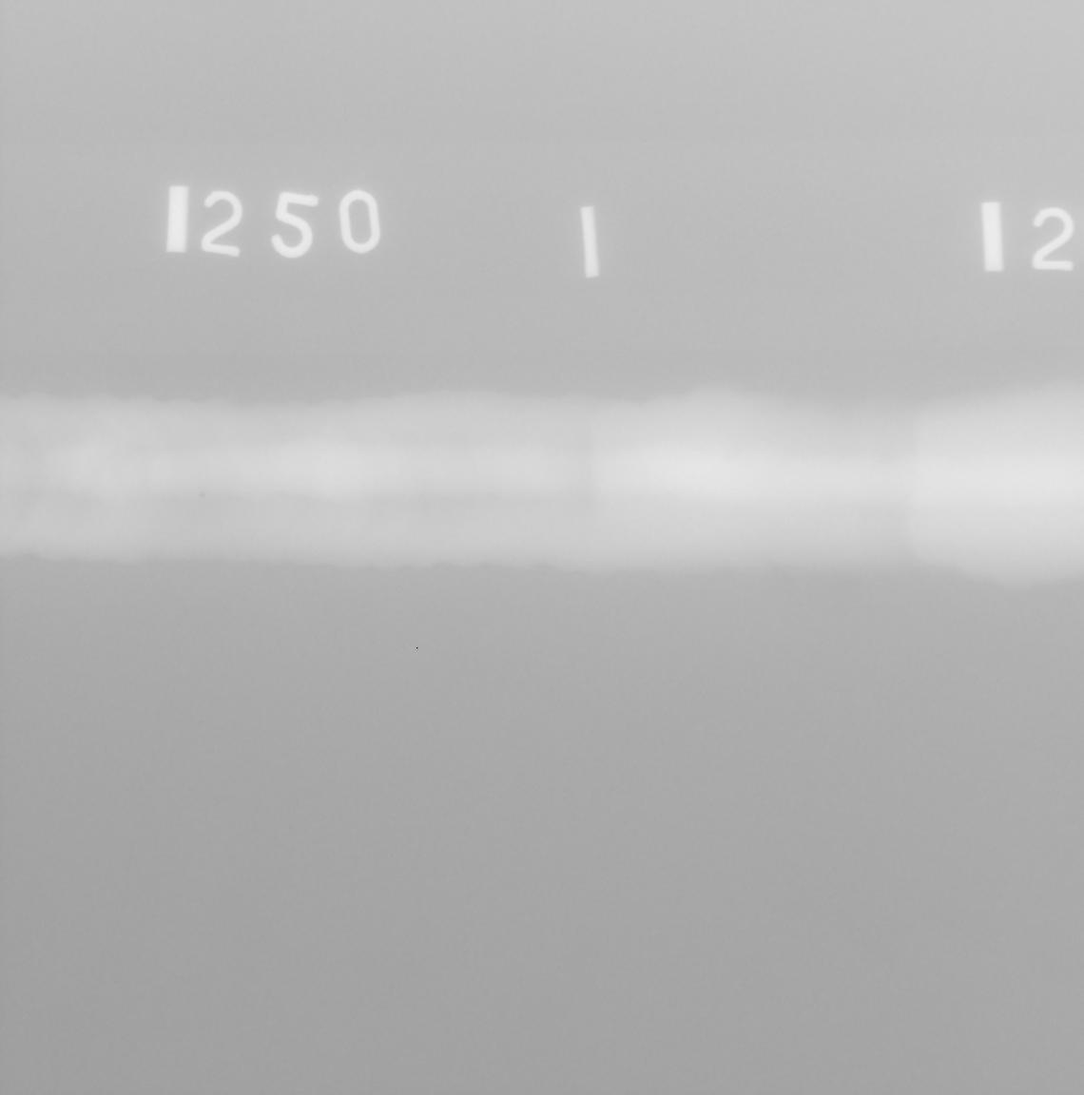Pore/Porosity: (198, 492, 206, 499)
